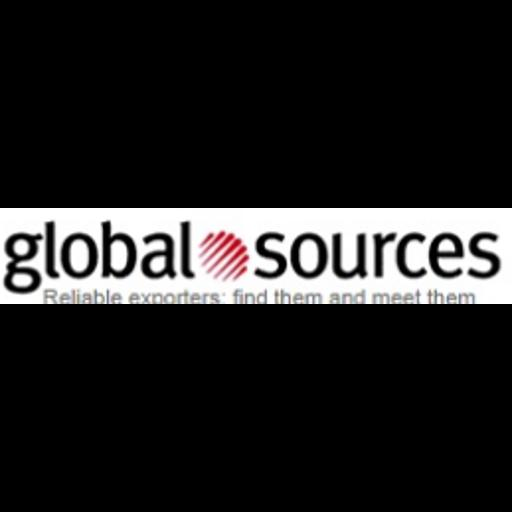Global Sources HK: (0, 208, 512, 304)
